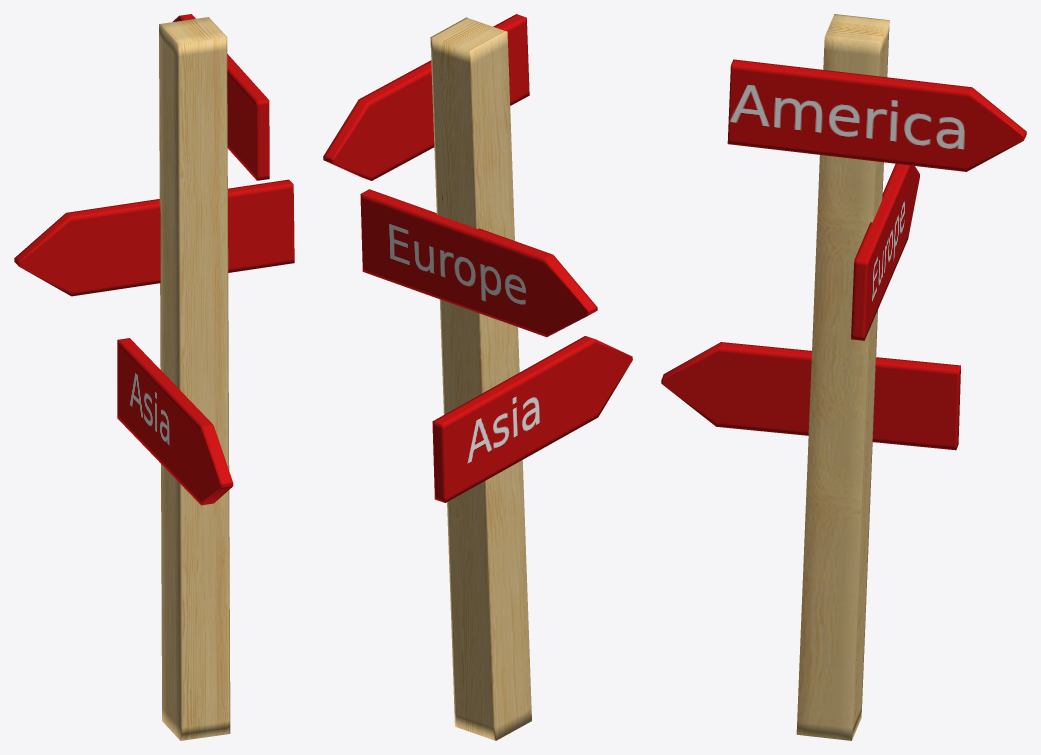
The model's file is sign.obj.
3 renders of one model, left to right at view 1: azimuth 30°, elevation 25°; view 2: azimuth 150°, elevation 25°; view 3: azimuth 270°, elevation 25°, orthographic. The views are drawn at different scales.
Visible parts, largest first — view 1: polySurface3; view 2: polySurface3; view 3: polySurface3.
Boxes of the visible parts, left/top/right/bottom form: polySurface3: left=14, top=14, right=294, bottom=740; polySurface3: left=323, top=14, right=632, bottom=740; polySurface3: left=661, top=14, right=1026, bottom=740.
Bounding box in the file's own units: 6.66 × 17.38 × 8.16.
Materials: 4 (4 with a texture image).
